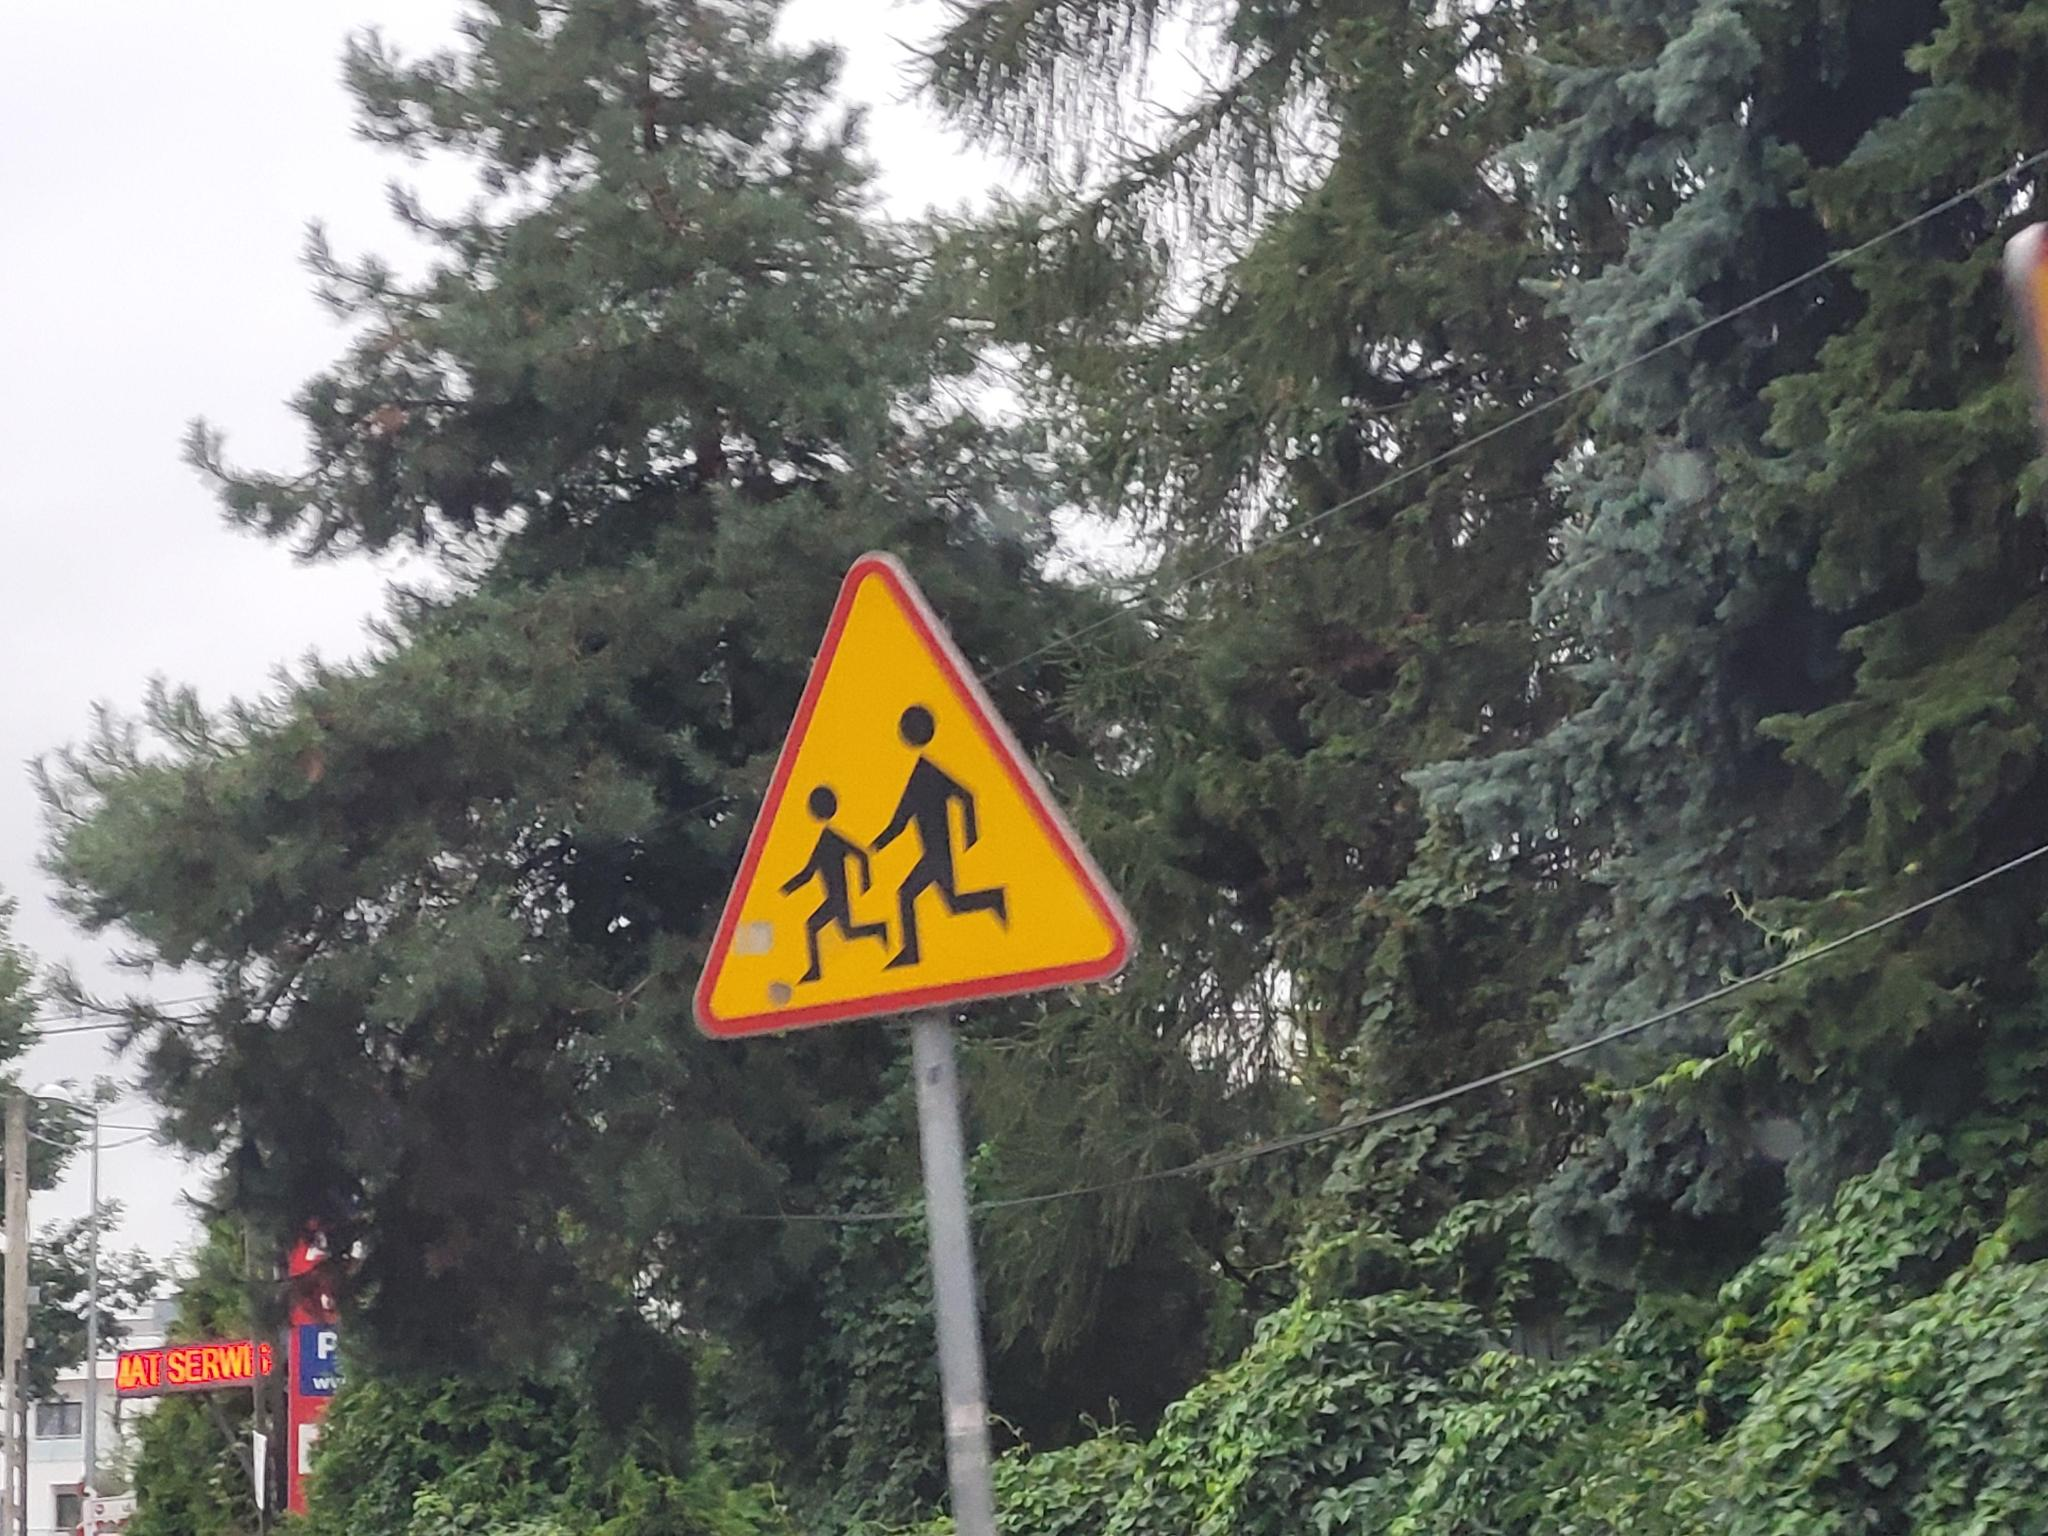warning: (689, 545, 1137, 1049)
